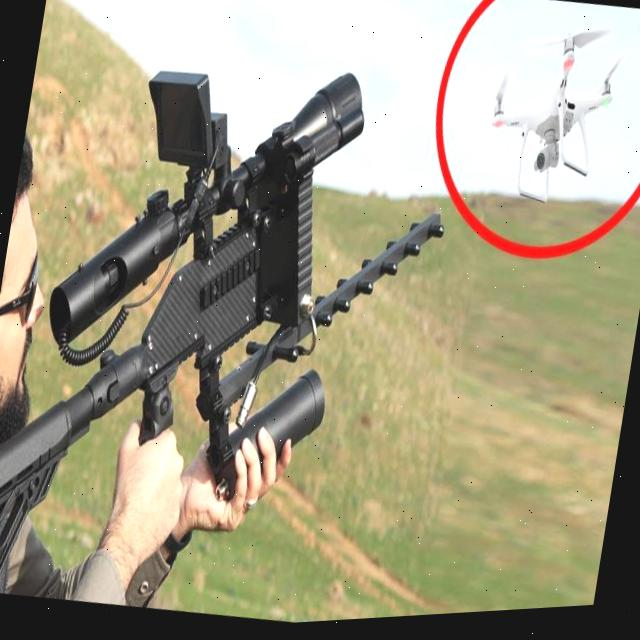drone: (459, 12, 635, 224)
